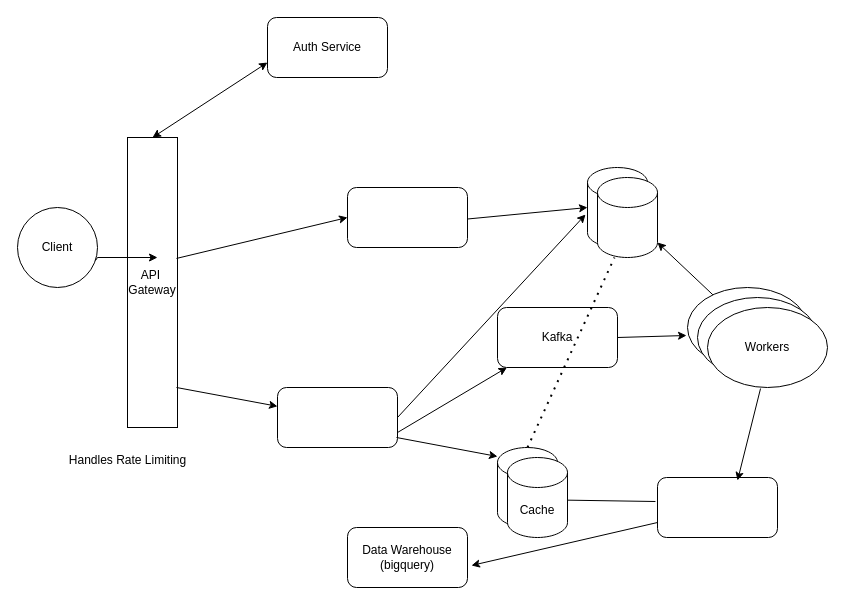
The diagram is 845 pixels wide and 605 high, and some of its shapes have lost their labels. The shapes that lost their labels are listed below. From the top down, each one's centre as x and y in pixels, then its label:
At point 407,217: "Shorten service".
At point 627,217: "Cassandra/ DynamoDB".
At point 337,417: "Redirection Service".
At point 717,507: "Analytics Service".
